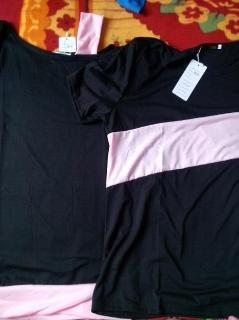short sleeve dress: (0, 13, 130, 319)
short sleeve top: (67, 37, 239, 319)
